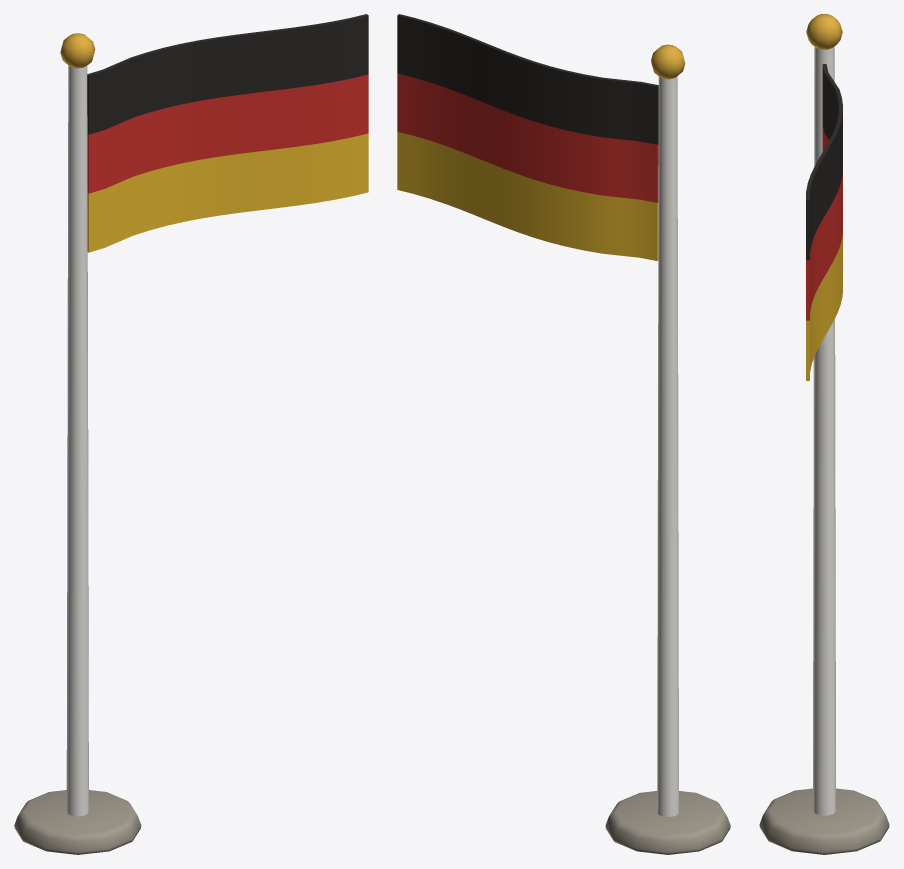
File: bandeira_alemanha.glb
3 renders of one model, left to right at view 1: azimuth 30°, elevation 25°; view 2: azimuth 150°, elevation 25°; view 3: azimuth 270°, elevation 25°, orthographic. The views are drawn at different scales.
Parts seen in each view (by area): view 1: Bandeira_Alemanha; view 2: Bandeira_Alemanha; view 3: Bandeira_Alemanha.
Part boxes in pixels (x1=…): Bandeira_Alemanha: x1=14, y1=14, x2=368, y2=854; Bandeira_Alemanha: x1=397, y1=14, x2=730, y2=854; Bandeira_Alemanha: x1=759, y1=14, x2=889, y2=854.
Bounding box in the file's own units: 1.2 × 2.7 × 0.3905.
